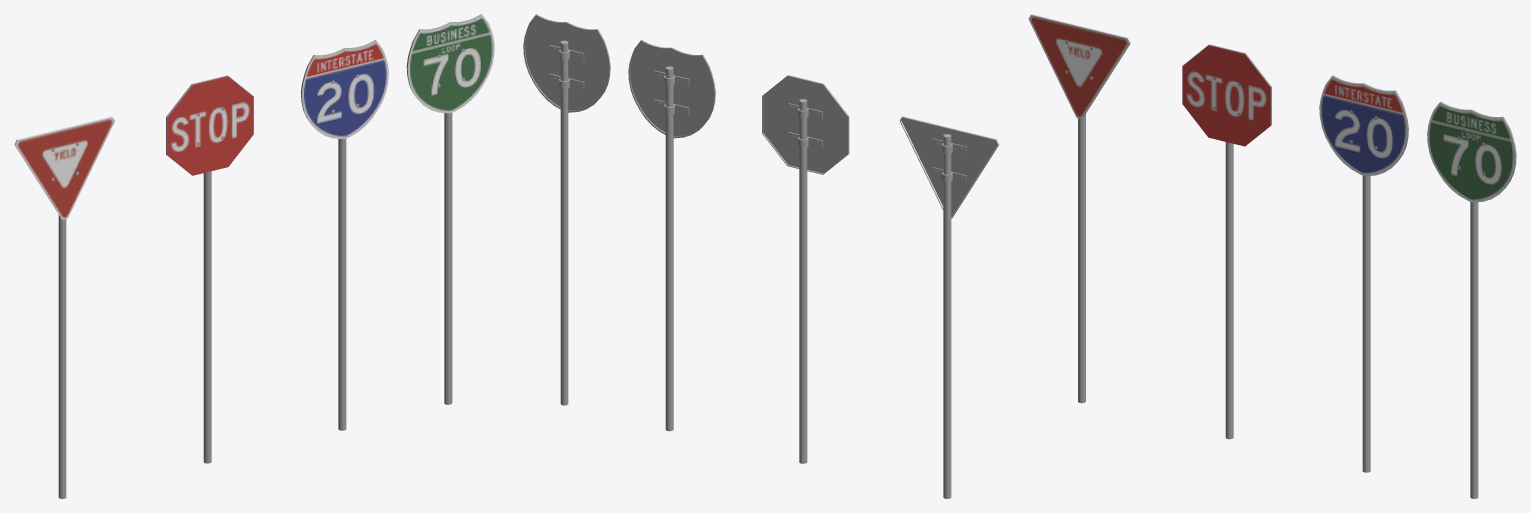
The model's file is signs_2.fbx.
3 views of the same model, side by side, from view 1: azimuth 30°, elevation 25°; view 2: azimuth 150°, elevation 25°; view 3: azimuth 330°, elevation 25° (orthographic). The views are drawn at different scales.
Parts seen in each view (by area): view 1: sign_5, sign_192, sign_6, sign_4; view 2: sign_5, sign_192, sign_6, sign_4; view 3: sign_5, sign_6, sign_192, sign_4.
Part boxes in pixels (x1,y1,x2,y2): sign_5: (166,75,253,463); sign_192: (406,14,494,404); sign_6: (301,40,388,430); sign_4: (14,116,114,498); sign_5: (762,75,849,463); sign_192: (523,14,610,405); sign_6: (628,40,715,431); sign_4: (899,116,999,498); sign_5: (1182,44,1271,439); sign_6: (1319,75,1408,472); sign_192: (1427,101,1516,498); sign_4: (1028,14,1130,403).
Size of the model in its own units: 2.75 by 2.11 by 0.0594.
